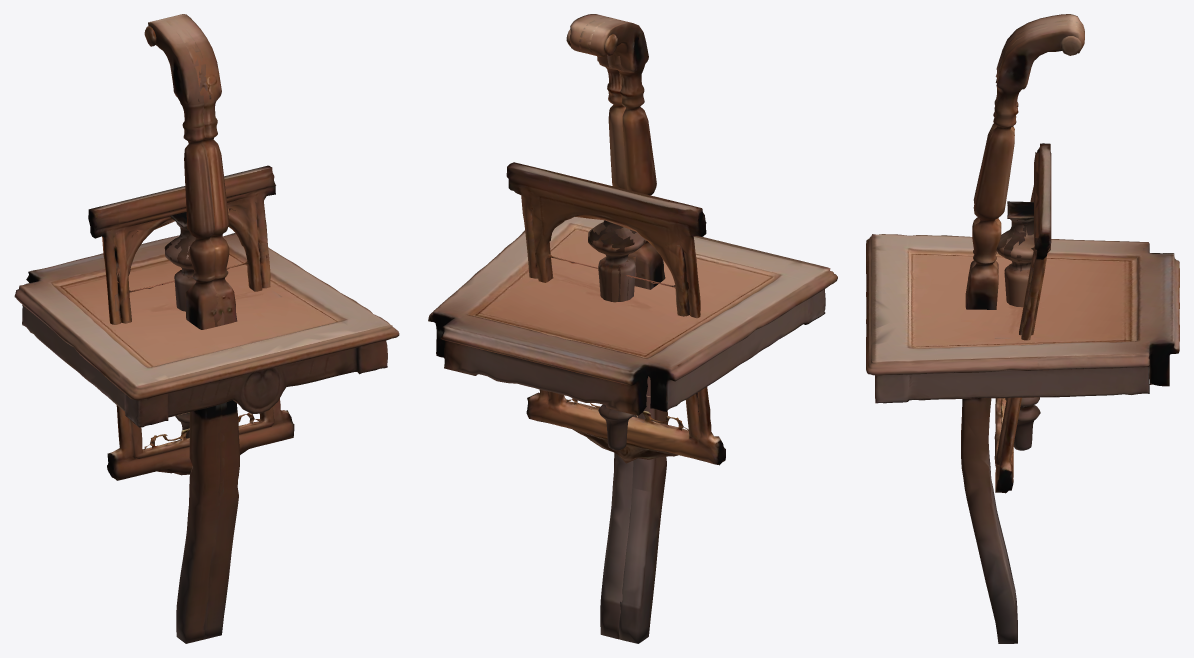
3 renders of one model, left to right at view 1: azimuth 30°, elevation 25°; view 2: azimuth 150°, elevation 25°; view 3: azimuth 270°, elevation 25°, orthographic. The views are drawn at different scales.
Visible parts, largest first — view 1: root.0, root.3, root.1, root.2, root.4, root.5; view 2: root.0, root.1, root.3, root.2, root.4, root.5; view 3: root.0, root.2, root.1, root.3, root.4, root.5.
Part boxes in pixels (x1,y1,x2,y2): root.0: (14, 233, 399, 427); root.3: (148, 17, 224, 643); root.1: (88, 165, 294, 480); root.2: (144, 14, 239, 639); root.4: (164, 213, 196, 311); root.5: (165, 212, 194, 438); root.0: (428, 217, 837, 415); root.1: (506, 162, 725, 465); root.3: (566, 17, 668, 643); root.2: (569, 14, 636, 639); root.4: (588, 220, 645, 449); root.5: (588, 220, 644, 450); root.0: (866, 234, 1179, 403); root.2: (961, 20, 1084, 643); root.1: (994, 143, 1051, 493); root.3: (961, 14, 1084, 629); root.4: (996, 201, 1040, 450); root.5: (999, 204, 1050, 411).
Bounding box in the file's own units: 15704 × 33454 × 15539.
1 material, 1 textured.
